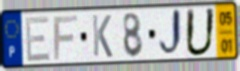8: (121, 11, 146, 59)
E: (24, 15, 52, 64)
F: (52, 14, 79, 62)
J: (157, 7, 185, 61)
K: (91, 13, 114, 59)
U: (184, 7, 218, 59)
